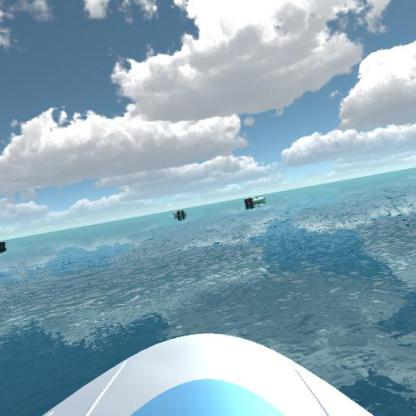usv0: (240, 194, 269, 210), (172, 206, 190, 220)
